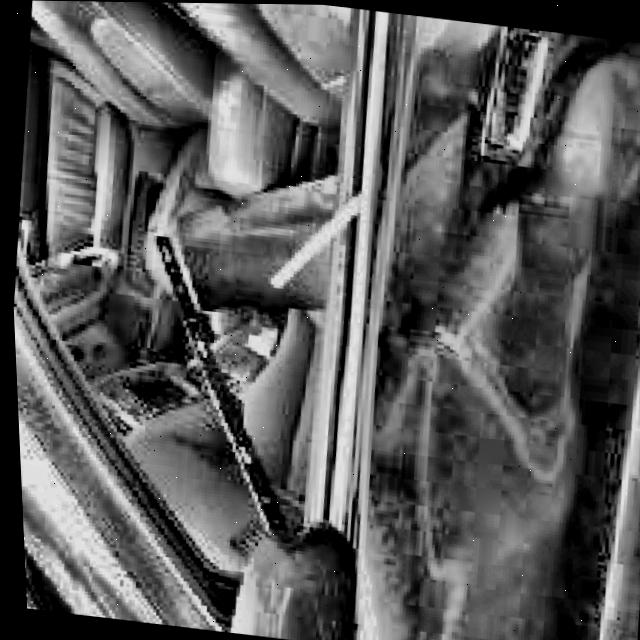door_dent: (342, 12, 636, 618)
